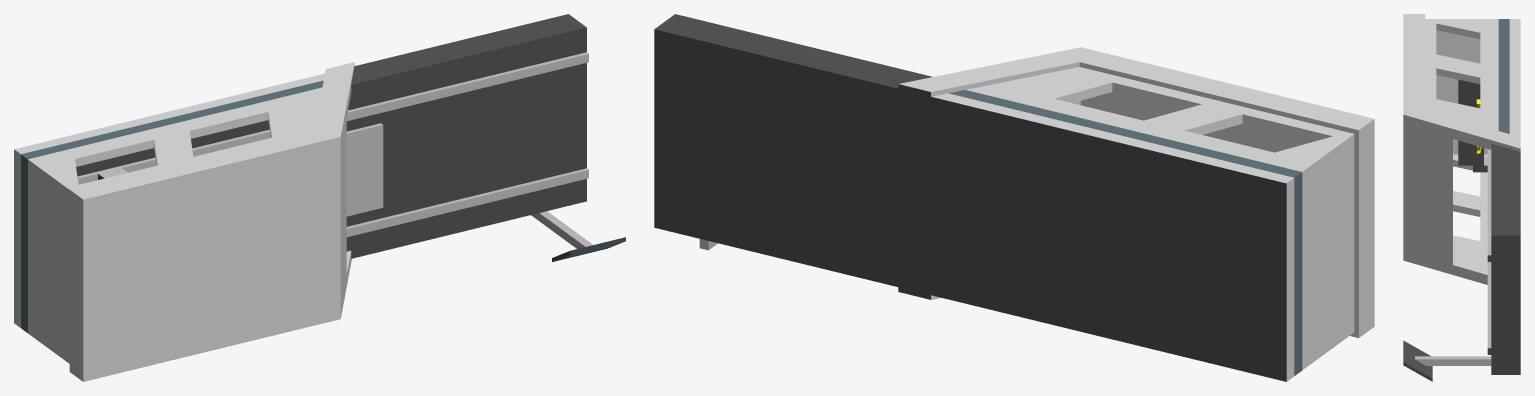
The model's file is cnc_cutting_machine_3_state_2.dae.
3 views of the same model, side by side, from view 1: azimuth 30°, elevation 25°; view 2: azimuth 150°, elevation 25°; view 3: azimuth 270°, elevation 25° (orthographic). The views are drawn at different scales.
Parts seen in each view (by area): view 1: coords_ME_ID11_MA_material_8, coords_ME_ID57_MA_material, coords_ME_ID27_MA_material_11, coords_ME_ID127_MA_material_16, coords_ME_ID121_MA_material_11, coords_ME_ID69_MA_material_11, coords_ME_ID45_MA_material_11, coords_ME_ID83_MA_material_8, coords_ME_ID63_MA_material_8, coords_ME_ID19_MA_material; view 2: coords_ME_ID57_MA_material, coords_ME_ID11_MA_material_8, coords_ME_ID127_MA_material_16, coords_ME_ID83_MA_material_8, coords_ME_ID63_MA_material_8; view 3: coords_ME_ID11_MA_material_8, coords_ME_ID57_MA_material, coords_ME_ID127_MA_material_16, coords_ME_ID51_MA_material, coords_ME_ID45_MA_material_11, coords_ME_ID19_MA_material, coords_ME_ID27_MA_material_11, coords_ME_ID69_MA_material_11, coords_ME_ID83_MA_material_8, coords_ME_ID63_MA_material_8, coords_ME_ID39_MA_material_8.
Boxes of the visible parts, x1=… form: coords_ME_ID11_MA_material_8: x1=14, y1=62, x2=354, y2=381; coords_ME_ID57_MA_material: x1=76, y1=14, x2=586, y2=258; coords_ME_ID27_MA_material_11: x1=77, y1=52, x2=588, y2=184; coords_ME_ID127_MA_material_16: x1=21, y1=80, x2=323, y2=332; coords_ME_ID121_MA_material_11: x1=346, y1=123, x2=383, y2=216; coords_ME_ID69_MA_material_11: x1=346, y1=168, x2=588, y2=237; coords_ME_ID45_MA_material_11: x1=531, y1=211, x2=592, y2=248; coords_ME_ID83_MA_material_8: x1=75, y1=139, x2=157, y2=166; coords_ME_ID63_MA_material_8: x1=190, y1=112, x2=271, y2=138; coords_ME_ID19_MA_material: x1=552, y1=237, x2=625, y2=261; coords_ME_ID57_MA_material: x1=654, y1=14, x2=1286, y2=381; coords_ME_ID11_MA_material_8: x1=899, y1=47, x2=1374, y2=381; coords_ME_ID127_MA_material_16: x1=949, y1=90, x2=1302, y2=375; coords_ME_ID83_MA_material_8: x1=1185, y1=114, x2=1332, y2=141; coords_ME_ID63_MA_material_8: x1=1054, y1=82, x2=1201, y2=109; coords_ME_ID11_MA_material_8: x1=1403, y1=14, x2=1520, y2=284; coords_ME_ID57_MA_material: x1=1487, y1=143, x2=1520, y2=374; coords_ME_ID127_MA_material_16: x1=1498, y1=19, x2=1509, y2=133; coords_ME_ID51_MA_material: x1=1458, y1=79, x2=1487, y2=172; coords_ME_ID45_MA_material_11: x1=1415, y1=356, x2=1491, y2=365; coords_ME_ID19_MA_material: x1=1403, y1=340, x2=1432, y2=381; coords_ME_ID27_MA_material_11: x1=1487, y1=149, x2=1491, y2=255; coords_ME_ID69_MA_material_11: x1=1484, y1=156, x2=1491, y2=348; coords_ME_ID83_MA_material_8: x1=1436, y1=23, x2=1480, y2=39; coords_ME_ID63_MA_material_8: x1=1436, y1=68, x2=1480, y2=83; coords_ME_ID39_MA_material_8: x1=1453, y1=204, x2=1480, y2=216.
Bounding box in the file's own units: 77.72 × 25.91 × 17.64.
